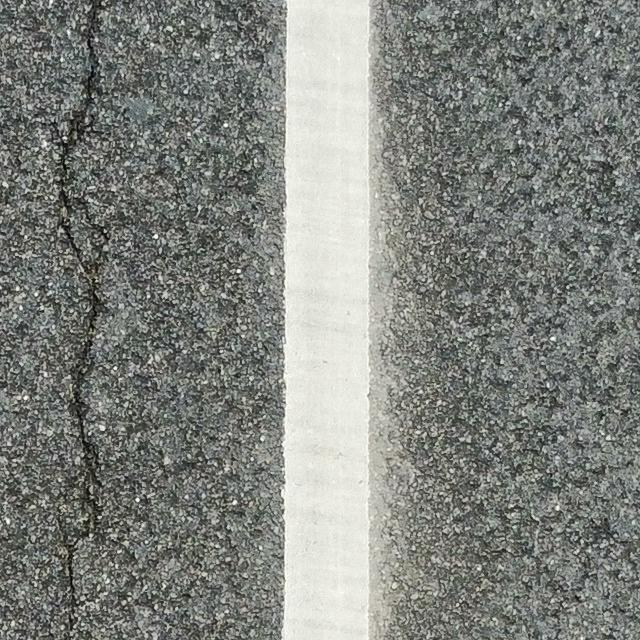LongitudinalCrack: (57, 6, 101, 625)
